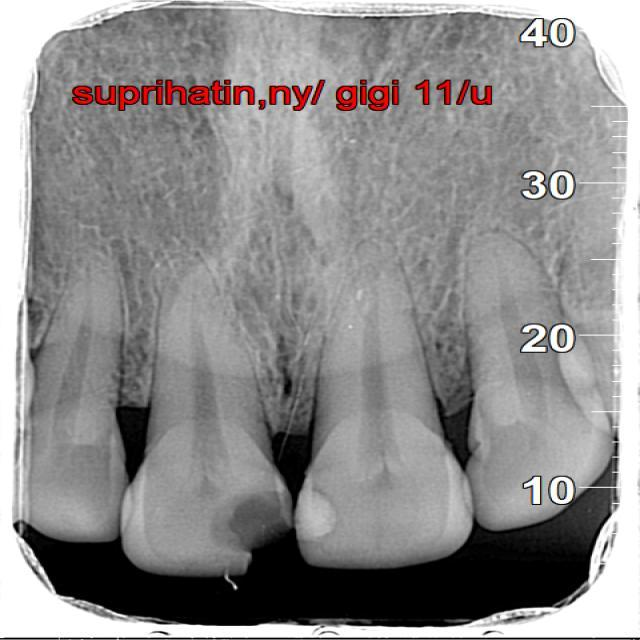individual-tooth-8tto: (296, 251, 476, 568), (115, 273, 287, 583), (461, 232, 619, 529)
